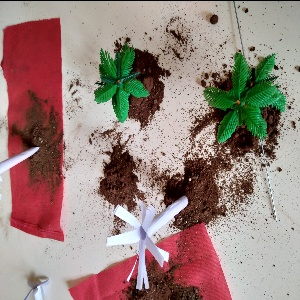plant: (205, 51, 295, 156), (88, 39, 152, 120)
weed: (96, 182, 200, 292), (3, 143, 50, 177), (15, 276, 55, 300)
